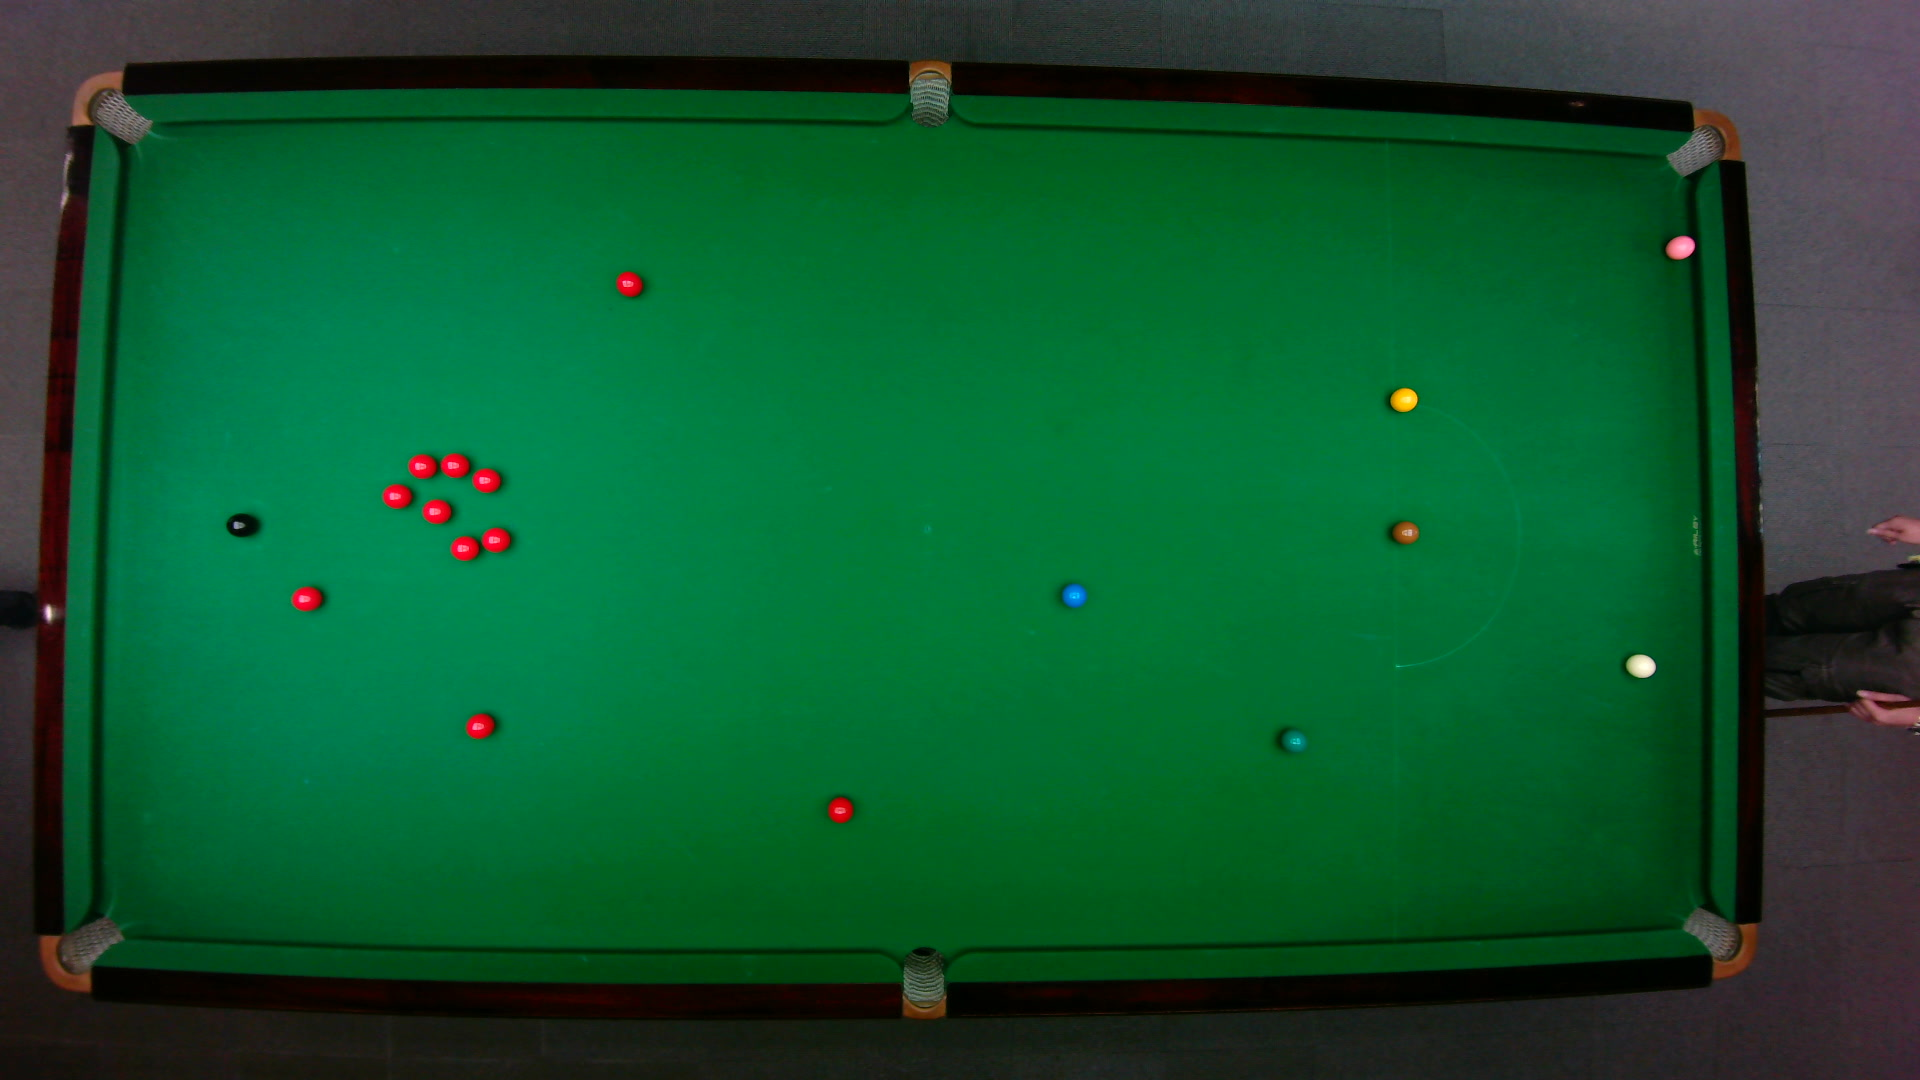bag: (38, 914, 125, 992), (69, 69, 152, 145), (1679, 905, 1756, 978), (1663, 107, 1741, 178), (901, 944, 944, 1021), (909, 57, 949, 128)
black: (224, 512, 257, 537)
blue: (1059, 582, 1087, 608)
brown: (1390, 520, 1419, 545)
green: (1278, 727, 1307, 753)
pink: (1663, 232, 1697, 260)
red: (289, 583, 323, 612), (825, 793, 855, 824), (419, 497, 454, 524), (464, 711, 496, 738), (480, 525, 512, 553), (469, 467, 502, 493), (448, 534, 480, 560), (615, 269, 644, 297), (380, 483, 411, 508), (440, 451, 469, 477), (406, 452, 436, 477)
white: (1623, 651, 1658, 678)
yellow: (1387, 385, 1418, 411)
zone: (1389, 401, 1519, 667)
